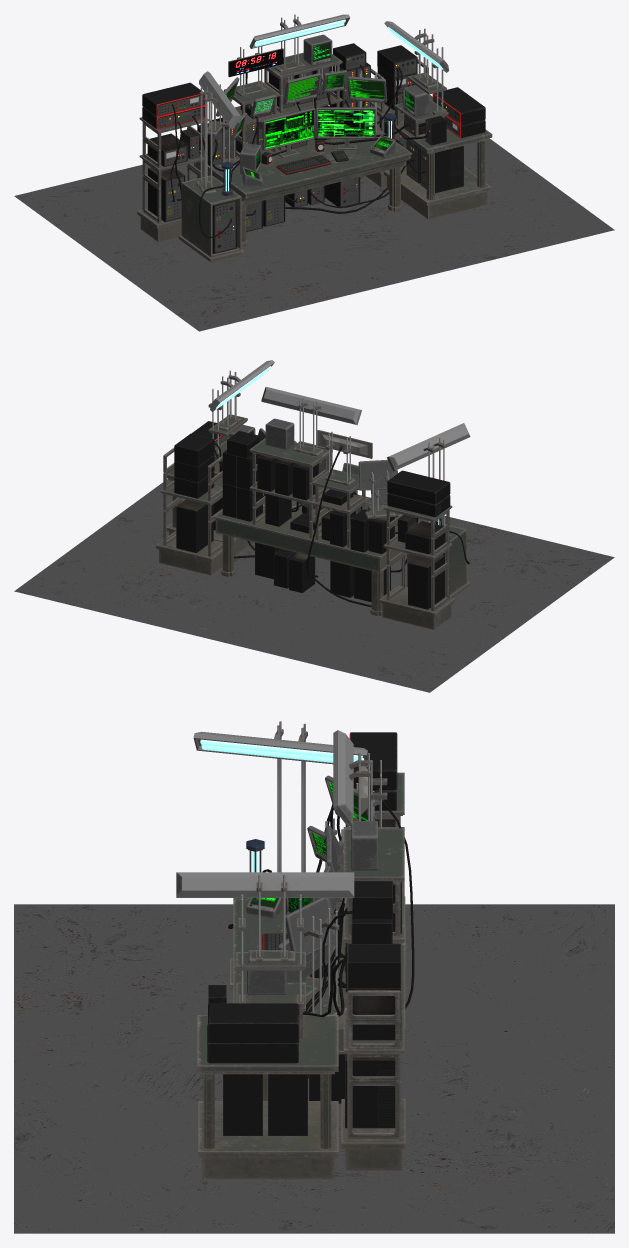
The model's file is retro_computer_compressed.glb.
3 views of the same model, one above another, from view 1: azimuth 30°, elevation 25°; view 2: azimuth 150°, elevation 25°; view 3: azimuth 270°, elevation 25° (orthographic). The views are drawn at different scales.
Visible parts, largest first — view 1: pPlane1, pCube1, pCube230, pCube233, pCube251, polySurface146, pCube250, polySurface20, pCube287, pCube309, pCube265, polySurface145 (+29 smaller); view 2: pPlane1, pCube1, polySurface20, polySurface146, pCube228, pCube299, pCube287, pCube273, pCube309, polySurface145, pCube230, pCube292 (+29 smaller); view 3: pPlane1, pCube233, polySurface145, polySurface146, pCube223, pCube294, pCube1, pCube299, pCube273, pCube277, pCube265, pCube283 (+22 smaller).
Boxes of the visible parts, x1=… form: pPlane1: x1=14, y1=94, x2=614, y2=331; pCube1: x1=194, y1=128, x2=412, y2=205; pCube230: x1=181, y1=175, x2=241, y2=257; pCube233: x1=384, y1=166, x2=491, y2=219; pCube251: x1=316, y1=107, x2=376, y2=138; polySurface146: x1=196, y1=71, x2=241, y2=194; pCube250: x1=262, y1=107, x2=315, y2=150; polySurface20: x1=249, y1=14, x2=350, y2=72; pCube287: x1=148, y1=167, x2=185, y2=222; pCube309: x1=142, y1=82, x2=204, y2=116; pCube265: x1=420, y1=146, x2=463, y2=193; polySurface145: x1=384, y1=21, x2=449, y2=88; pPlane1: x1=14, y1=478, x2=614, y2=692; pCube1: x1=213, y1=493, x2=430, y2=572; polySurface20: x1=261, y1=387, x2=361, y2=456; polySurface146: x1=387, y1=423, x2=470, y2=538; pCube228: x1=379, y1=585, x2=454, y2=629; pCube299: x1=176, y1=499, x2=213, y2=553; pCube287: x1=408, y1=555, x2=444, y2=609; pCube273: x1=156, y1=531, x2=222, y2=575; pCube309: x1=387, y1=470, x2=450, y2=504; polySurface145: x1=210, y1=360, x2=274, y2=430; pCube230: x1=407, y1=523, x2=466, y2=596; pCube292: x1=174, y1=433, x2=214, y2=466; pPlane1: x1=14, y1=904, x2=614, y2=1233; pCube233: x1=198, y1=1101, x2=338, y2=1179; polySurface145: x1=176, y1=872, x2=354, y2=963; polySurface146: x1=193, y1=721, x2=370, y2=872; pCube223: x1=197, y1=1015, x2=338, y2=1074; pCube294: x1=208, y1=1003, x2=299, y2=1043; pCube1: x1=233, y1=896, x2=405, y2=1054; pCube299: x1=345, y1=1053, x2=395, y2=1128; pCube273: x1=341, y1=1099, x2=405, y2=1170; pCube277: x1=236, y1=894, x2=305, y2=1038; pCube265: x1=223, y1=1074, x2=262, y2=1135; pCube283: x1=268, y1=1074, x2=307, y2=1135.
Bounding box in the file's own units: 0.8368 × 0.3602 × 0.6454.
Materials: 5 (4 with a texture image).
